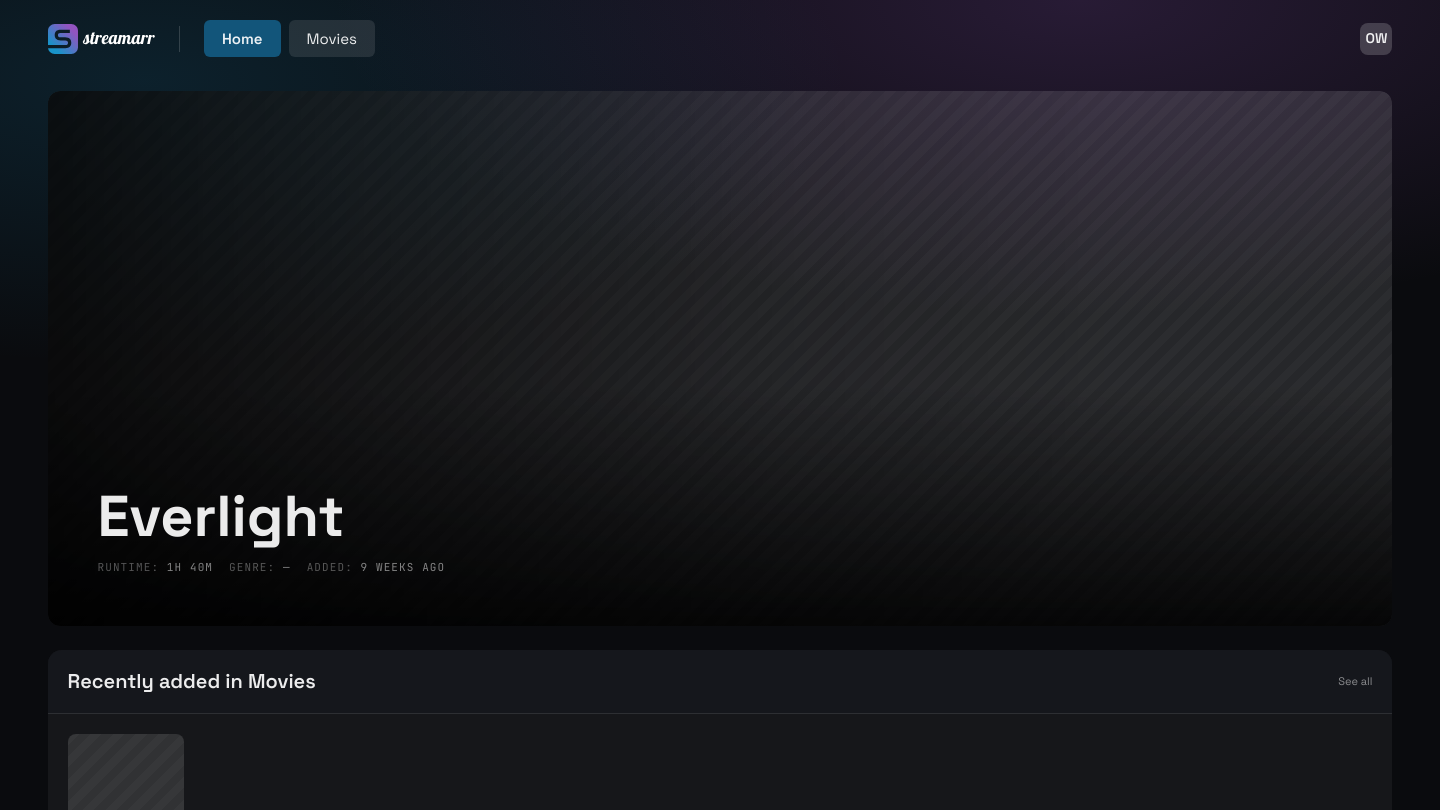
Test case: /library/$libraryId › shouldUseRecentlyAddedForSeeAllAndTitleForLibraryNavigation
Click the link "See all".
click(1355, 681)  # box [1338, 673, 1372, 690]
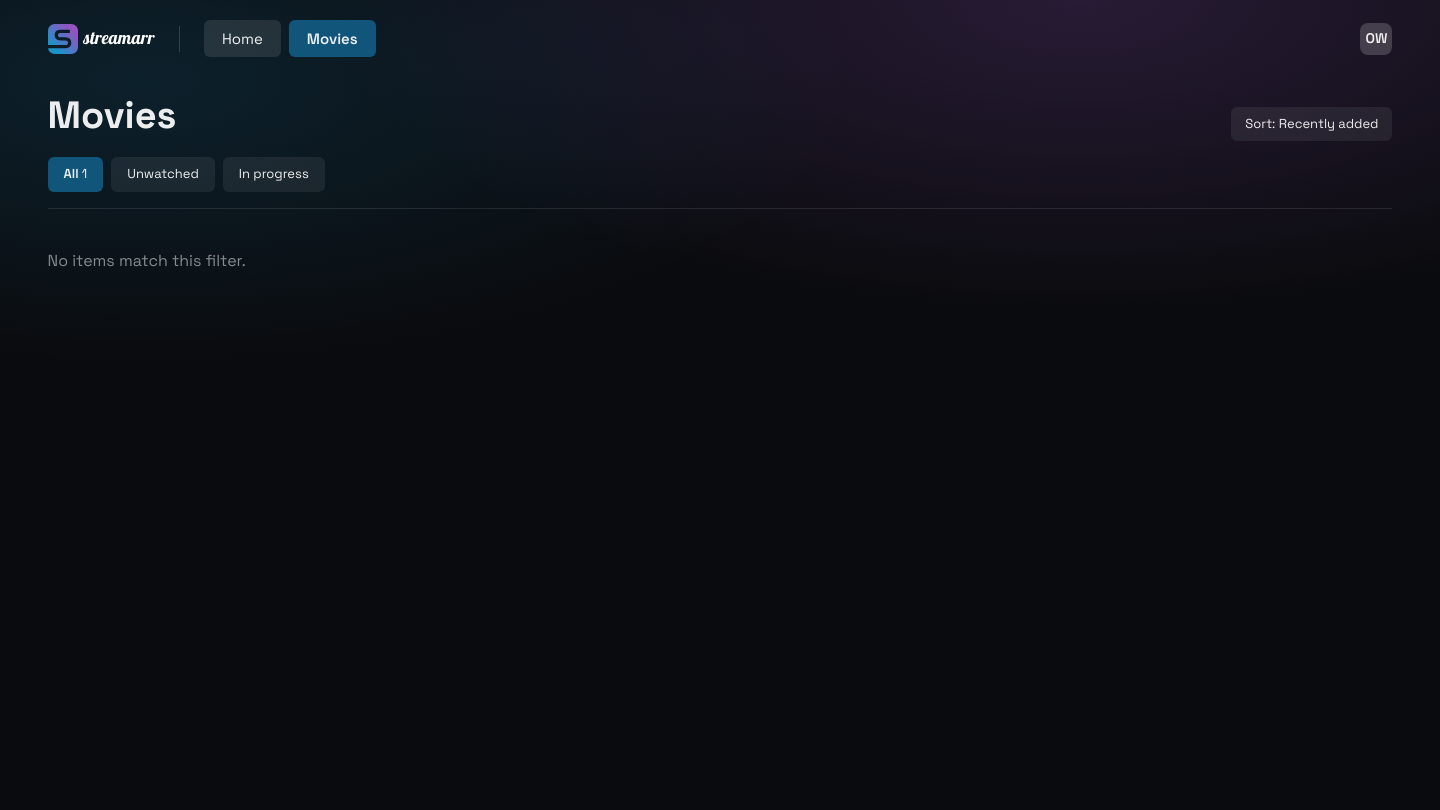
Result: the button "Sort: Recently added" is shown at [1231, 107, 1392, 141]
Click the link "Movies".
click(332, 39)  # box [289, 20, 376, 57]
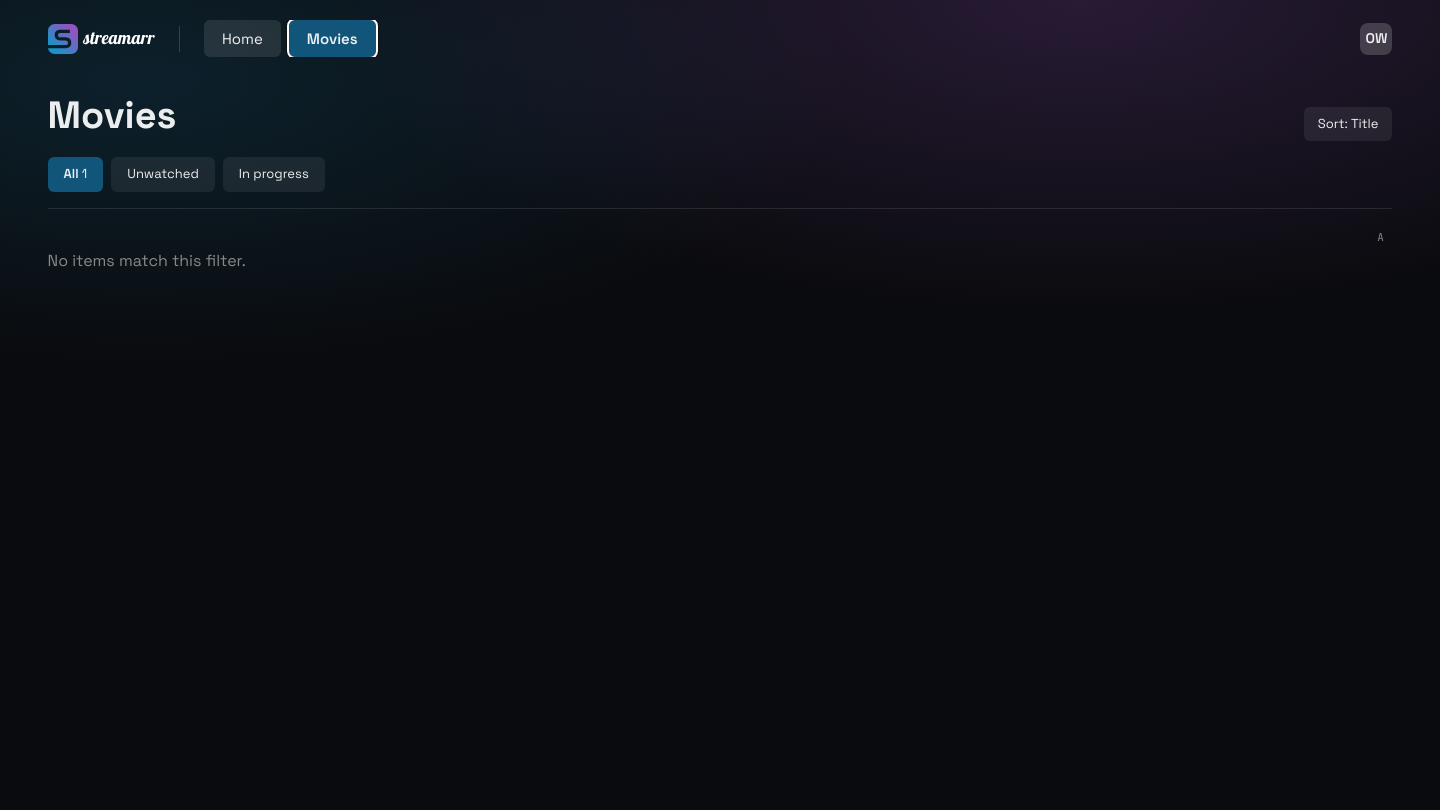
Result: the button "Sort: Title" is shown at [1304, 107, 1392, 141]
